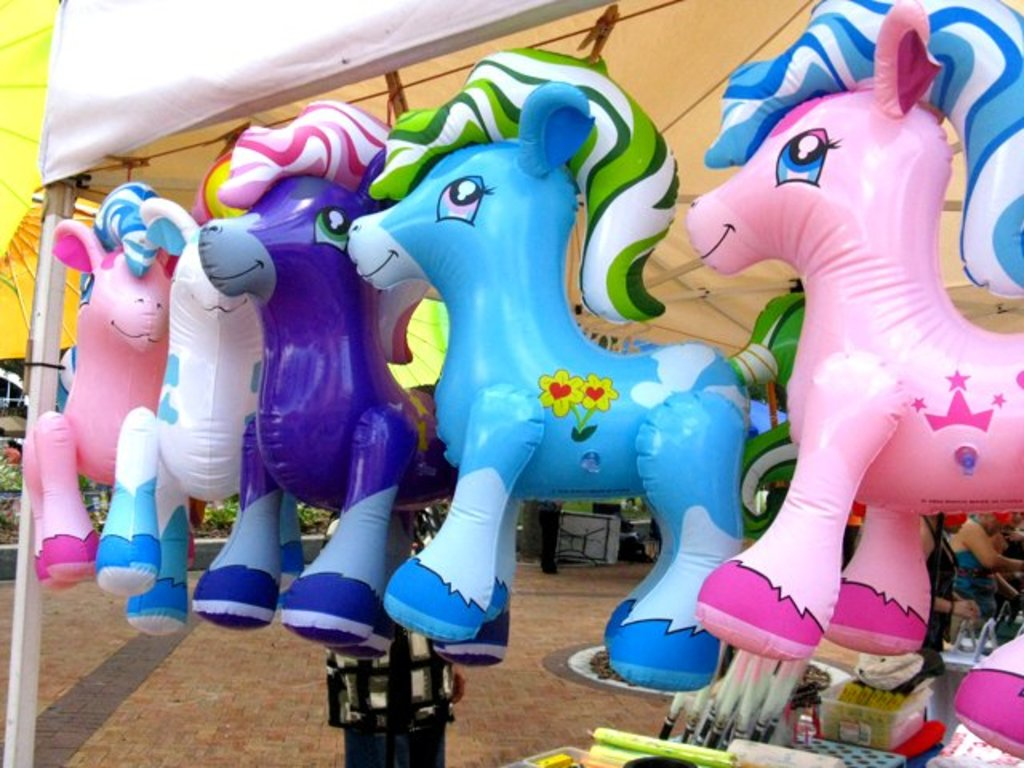Person: (326, 503, 1023, 768)
